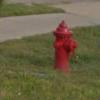Hydrant: (43, 14, 81, 74)
